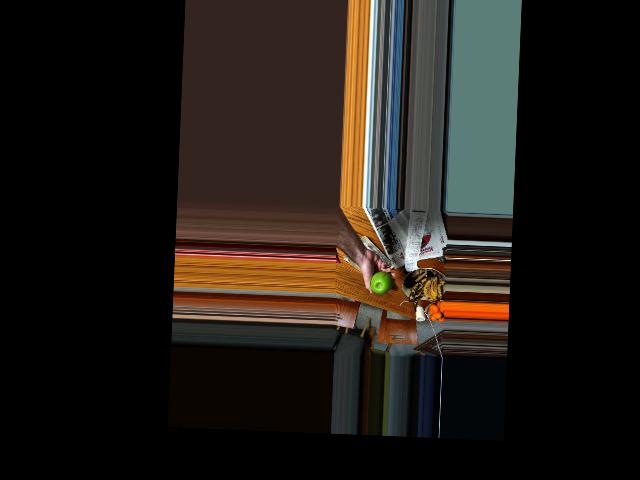apple: (368, 270, 392, 295)
